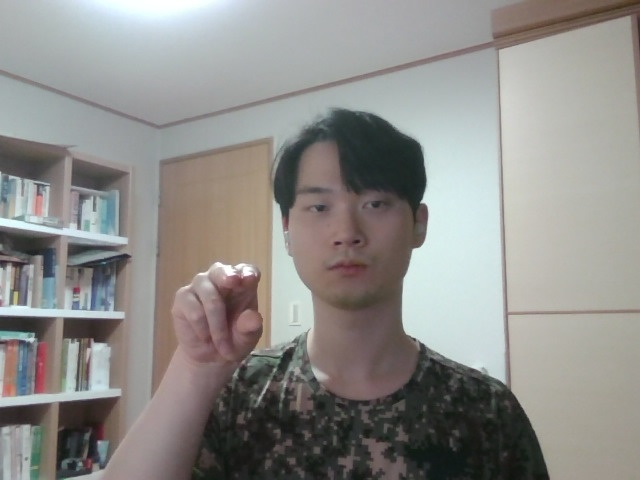no: (151, 225, 270, 388)
